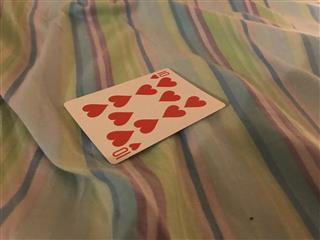TenOfHearts: (62, 66, 225, 164)
